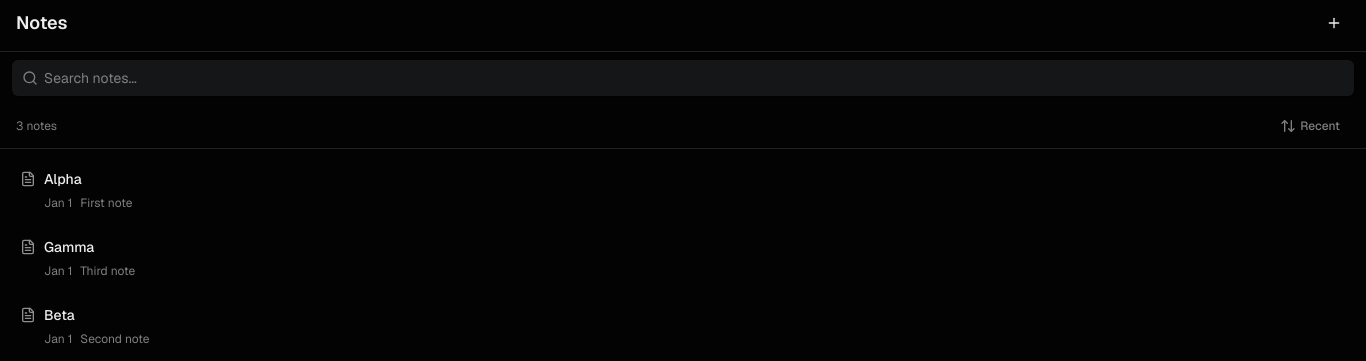
Test: NotesSidebar › filters by search query
The image size is (1366, 361).
Type "Alpha" into the field with placeholder "Search notes...".
click(683, 78); type("Alpha")  # box [12, 60, 1354, 96]
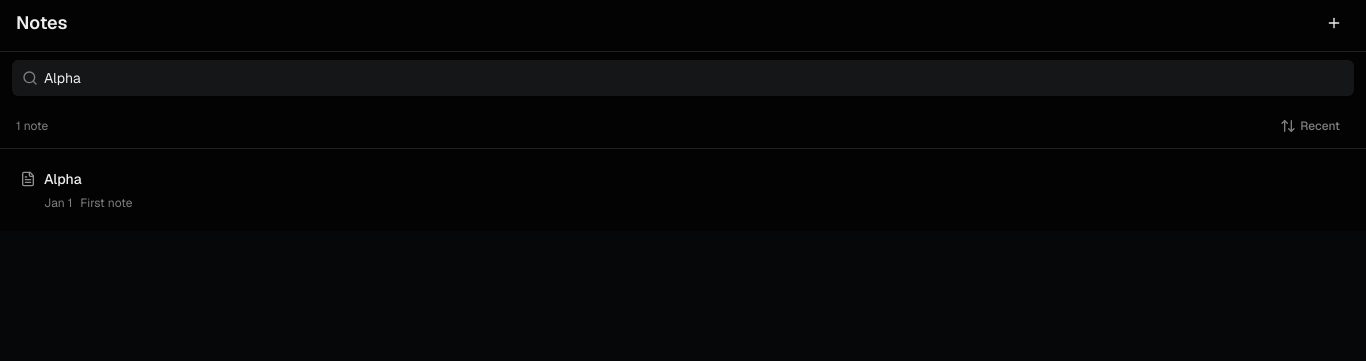
Expected: the text "Alpha" is shown, [44, 169, 82, 189]
Expected: the text "Beta" is gone
Expected: the text "Gamma" is gone
